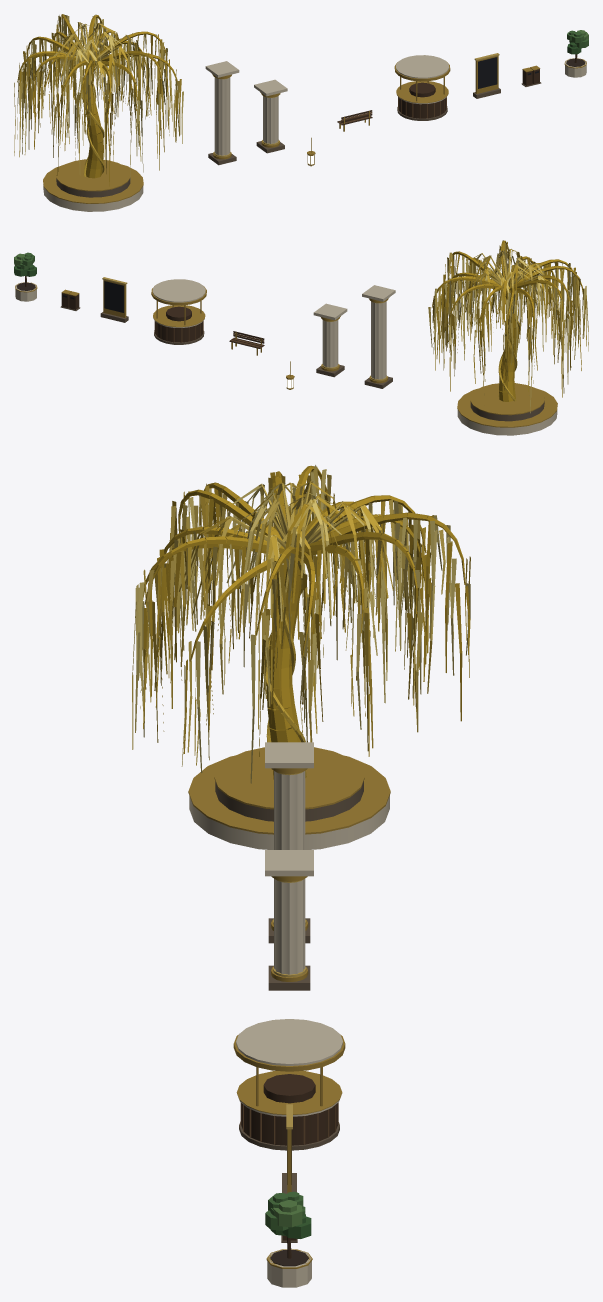
File: hub.glb
The picture shows the model from 3 angles, top to bottom: view 1: azimuth 30°, elevation 25°; view 2: azimuth 150°, elevation 25°; view 3: azimuth 270°, elevation 25°; orthographic projection. The views are drawn at different scales.
Visible parts, largest first — view 1: hub_willow_body, hub_kiosk_body, hub_col54_body, hub_col36_body, hub_totem_body, hub_planter_body, hub_bins_body, hub_bench_body; view 2: hub_willow_body, hub_kiosk_body, hub_col54_body, hub_col36_body, hub_totem_body, hub_planter_body, hub_bench_body, hub_bins_body; view 3: hub_willow_body, hub_kiosk_body, hub_col36_body, hub_col54_body, hub_planter_body.
Part boxes in pixels (left/top/right/bottom): hub_willow_body: left=14, top=14, right=183, bottom=211; hub_kiosk_body: left=394, top=55, right=450, bottom=120; hub_col54_body: left=205, top=61, right=239, bottom=165; hub_col36_body: left=254, top=79, right=287, bottom=153; hub_totem_body: left=473, top=53, right=500, bottom=98; hub_planter_body: left=564, top=30, right=588, bottom=77; hub_bins_body: left=521, top=65, right=541, bottom=86; hub_bench_body: left=337, top=110, right=372, bottom=131; hub_willow_body: left=428, top=240, right=588, bottom=435; hub_kiosk_body: left=151, top=279, right=206, bottom=344; hub_col54_body: left=362, top=285, right=395, bottom=388; hub_col36_body: left=313, top=303, right=347, bottom=377; hub_totem_body: left=100, top=277, right=128, bottom=322; hub_planter_body: left=14, top=252, right=37, bottom=301; hub_bench_body: left=229, top=331, right=264, bottom=355; hub_bins_body: left=60, top=289, right=80, bottom=310; hub_willow_body: left=132, top=465, right=470, bottom=849; hub_kiosk_body: left=233, top=1019, right=345, bottom=1150; hub_col36_body: left=265, top=850, right=313, bottom=990; hub_col54_body: left=265, top=742, right=313, bottom=943; hub_planter_body: left=265, top=1191, right=312, bottom=1287.
Bounding box in the file's own units: 34.86 × 11.19 × 9.12.
